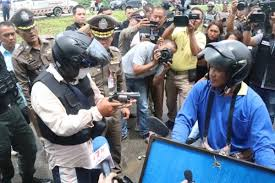Helmet: (48, 27, 113, 81), (197, 36, 256, 89)
gun: (108, 89, 147, 107)
